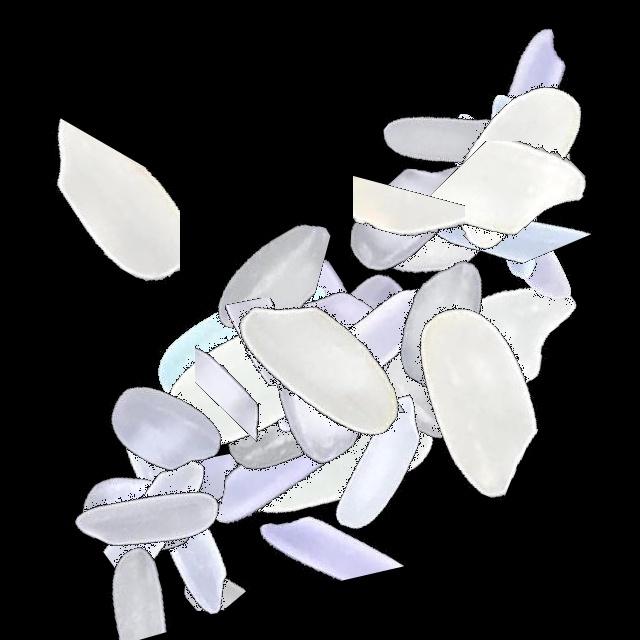Broken: (178, 220, 346, 470), (298, 283, 466, 533), (13, 110, 180, 360), (110, 184, 360, 350), (96, 390, 259, 640), (341, 368, 591, 525), (169, 300, 419, 455), (375, 111, 625, 265), (144, 298, 394, 446), (0, 498, 250, 640), (390, 141, 640, 283), (207, 444, 457, 581), (195, 231, 316, 481), (197, 221, 447, 341), (209, 317, 459, 435), (157, 390, 271, 640), (353, 124, 465, 374), (79, 512, 329, 611), (104, 487, 354, 579), (315, 293, 407, 543), (324, 242, 408, 492), (154, 375, 232, 625)
Full: (50, 390, 300, 640), (355, 219, 605, 469), (147, 275, 397, 525), (154, 212, 404, 462), (386, 82, 636, 332), (382, 50, 632, 300), (215, 337, 465, 587), (327, 9, 577, 259), (390, 0, 640, 250), (168, 335, 418, 585), (304, 111, 554, 361), (217, 204, 467, 454), (390, 63, 640, 313), (166, 295, 416, 545), (390, 36, 640, 286), (115, 214, 365, 464), (214, 208, 464, 458), (236, 234, 486, 484), (129, 262, 379, 512), (14, 390, 264, 640), (195, 270, 445, 520), (252, 339, 502, 589), (21, 390, 271, 640), (286, 94, 536, 344), (40, 303, 290, 553), (193, 244, 443, 494), (318, 198, 568, 448), (346, 273, 596, 523)
